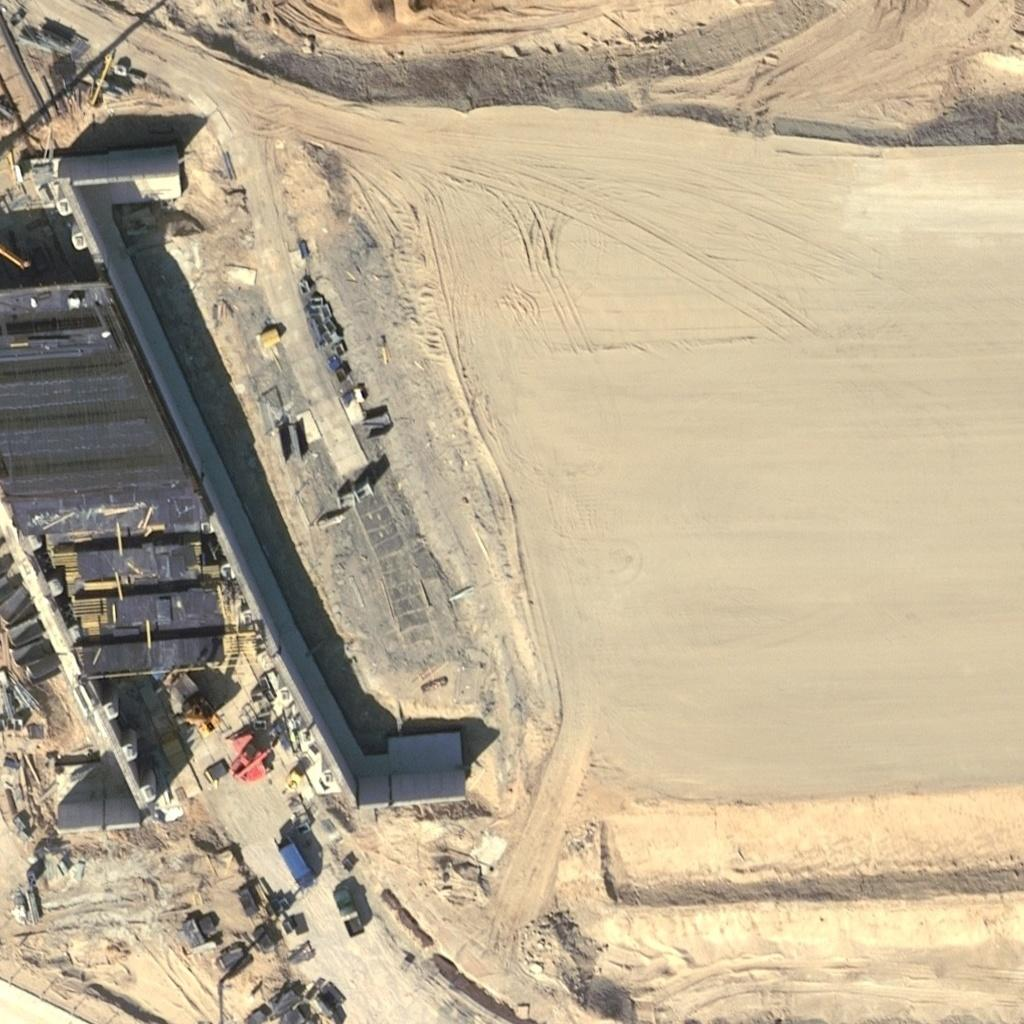ciezarowka: (272, 832, 320, 894)
koparka: (173, 695, 224, 741)
